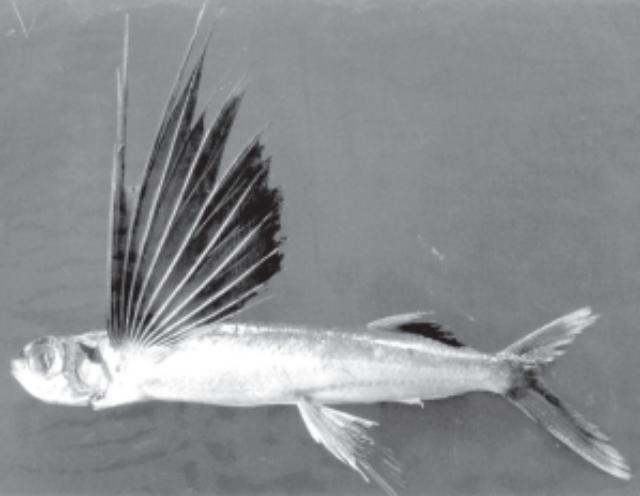Mulut: (3, 329, 53, 403)
Sirip Dada: (71, 0, 301, 372)
Sirip Ekor: (485, 298, 637, 489)
Sirip Perut: (281, 383, 415, 496)
Sirip Punggung: (358, 294, 476, 370)
